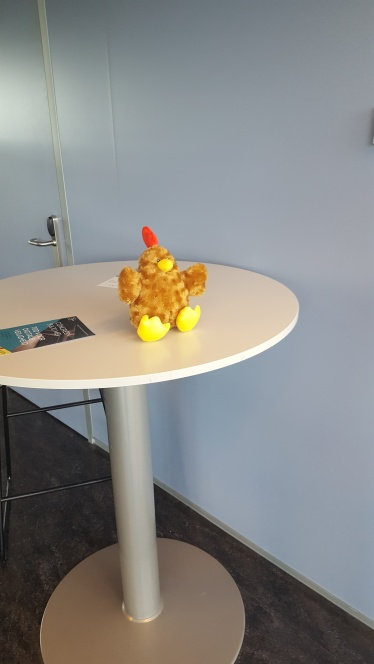chicken_front: (118, 226, 208, 342)
